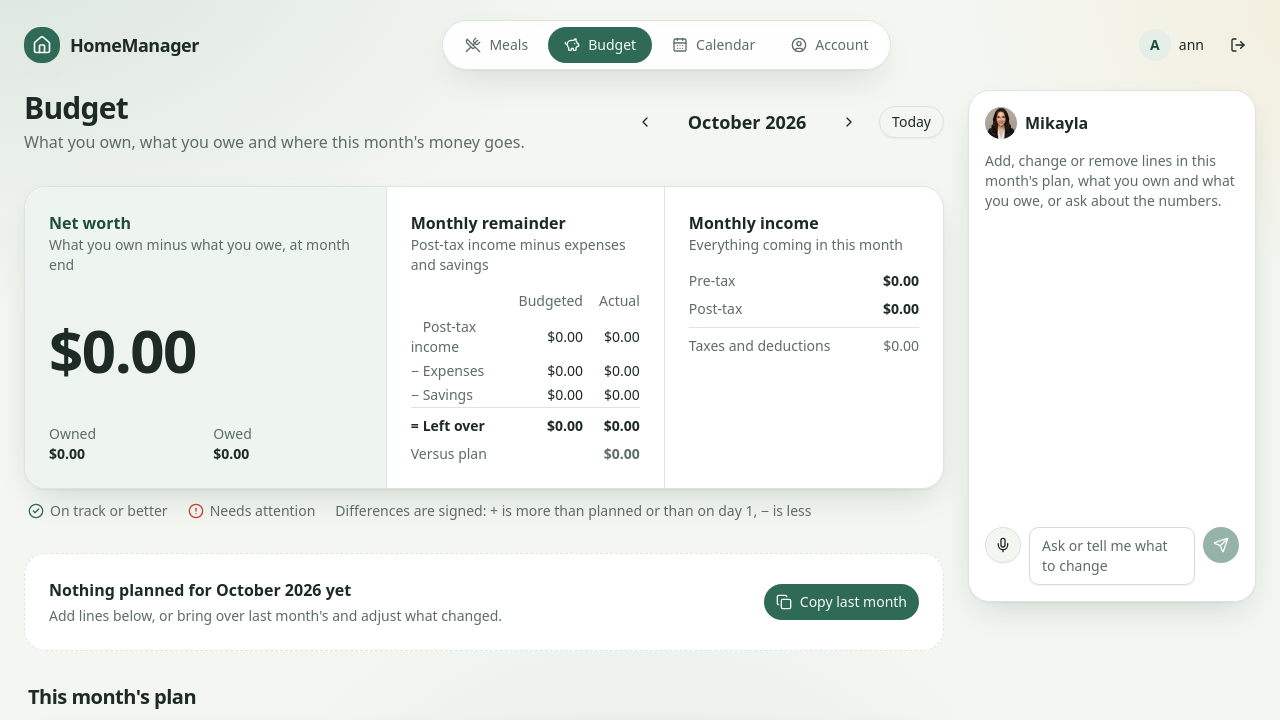
BudgetPage › shows why copying failed
Click the button "Copy last month": (841, 602) [764,584,919,620]
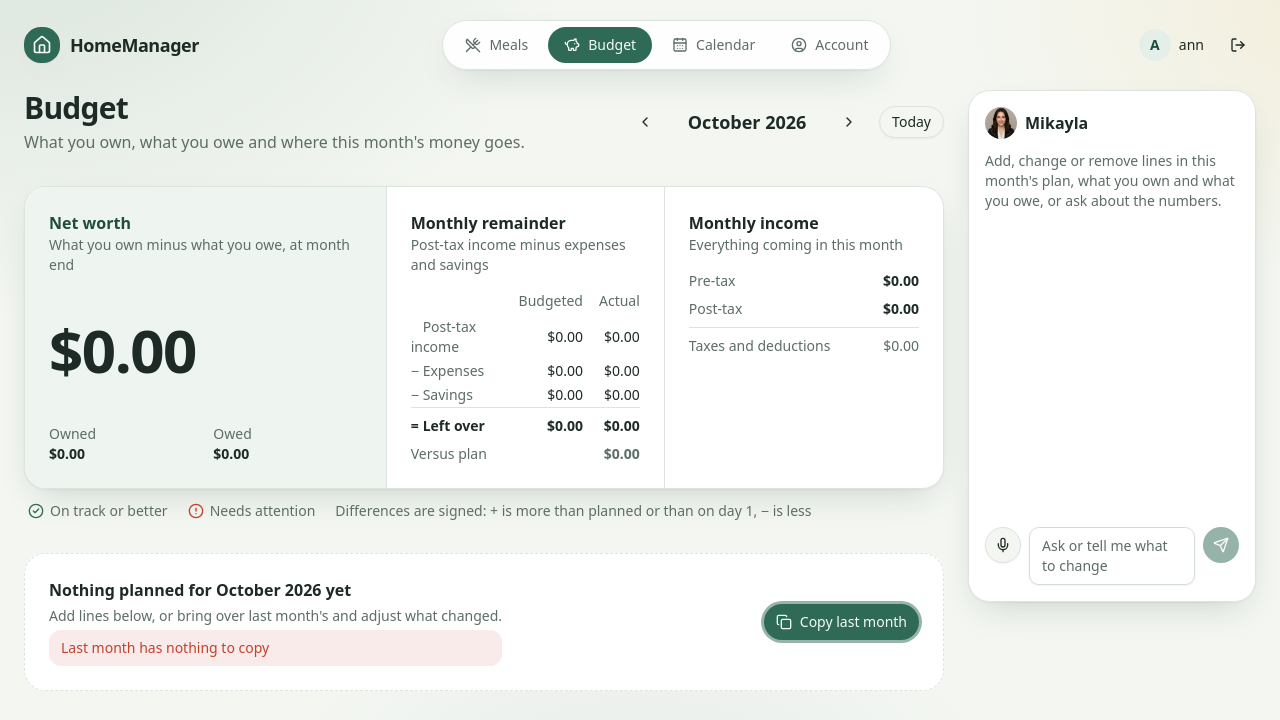
Expected: the text "Last month has nothing to copy" is shown, [49,630,502,666]
